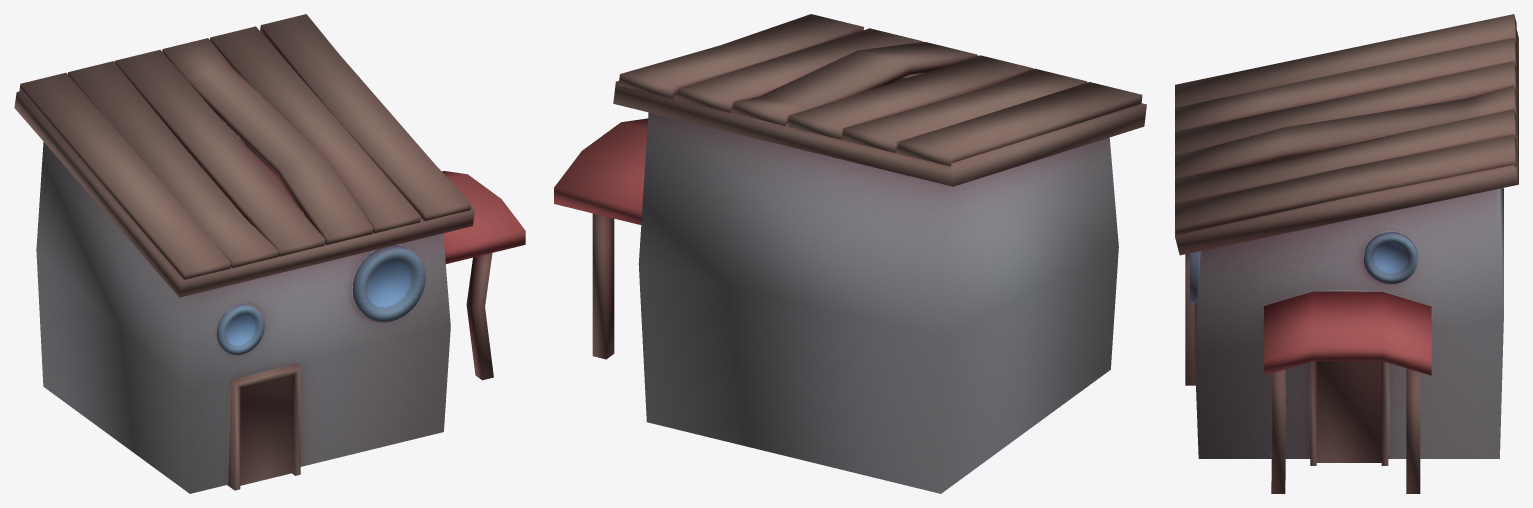
Rendered from Casa.fbx.
3 views of the same model, side by side, from view 1: azimuth 30°, elevation 25°; view 2: azimuth 150°, elevation 25°; view 3: azimuth 270°, elevation 25° (orthographic). The views are drawn at different scales.
Parts seen in each view (by area): view 1: Casa; view 2: Casa; view 3: Casa.
Part boxes in pixels (box(x1,y1,x2,y2)): Casa: box(14, 14, 525, 493); Casa: box(554, 14, 1146, 493); Casa: box(1175, 14, 1518, 493).
Bounding box in the file's own units: 158 × 118 × 118.
